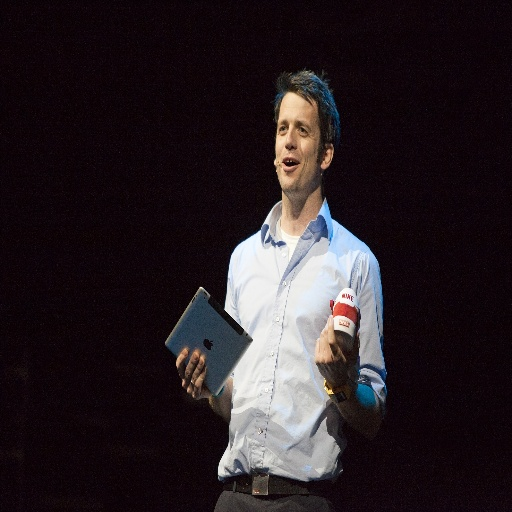hand: (313, 313, 359, 387), (175, 351, 215, 410)
